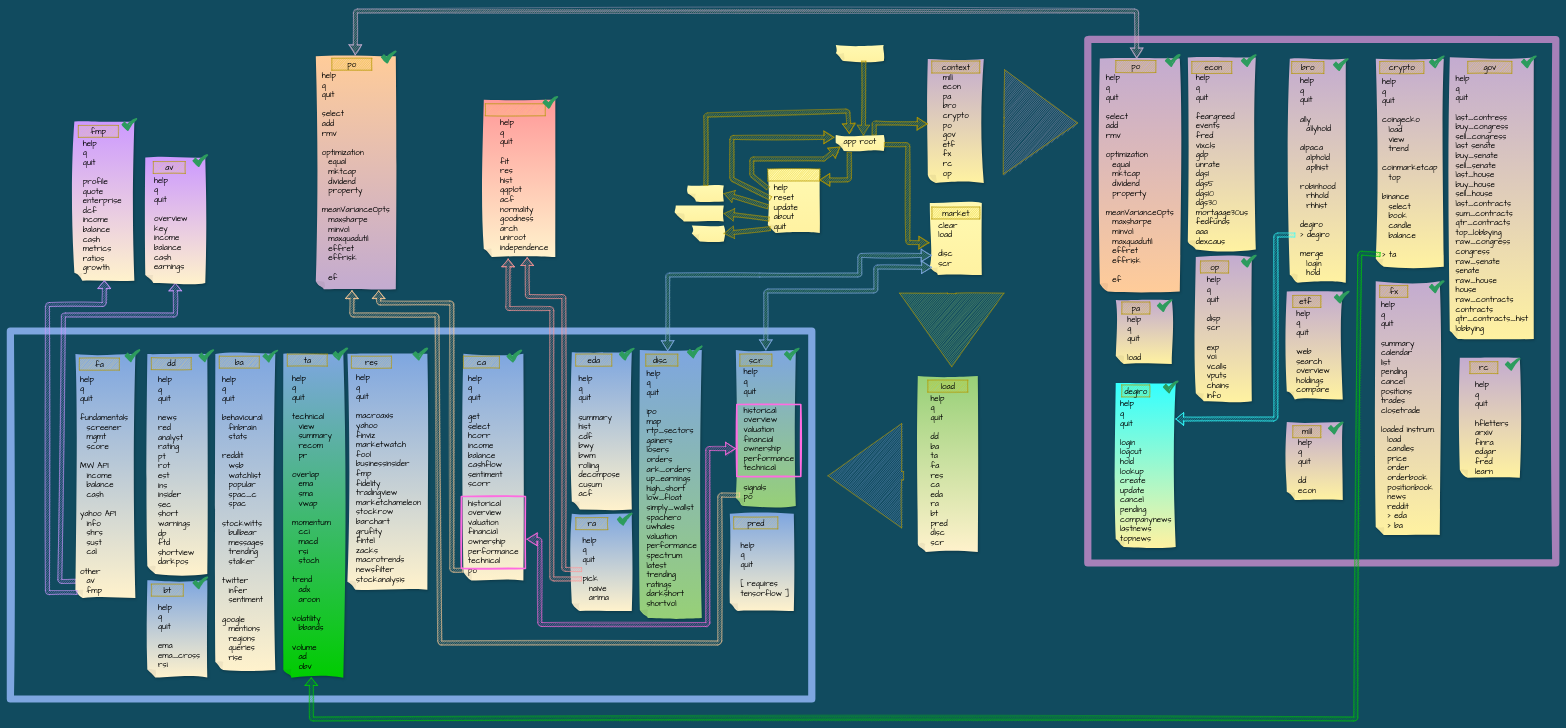
Some shapes in this 1566 by 728 pixel diagram are drawn without their labels. The centre of each missing label's shape, as x and y in pixels:
about page: (x=700, y=214)
app settings: (x=793, y=175)
close: (x=708, y=234)
enter app: (x=860, y=53)
git pull: (x=706, y=194)
naive / arima: (x=515, y=109)
